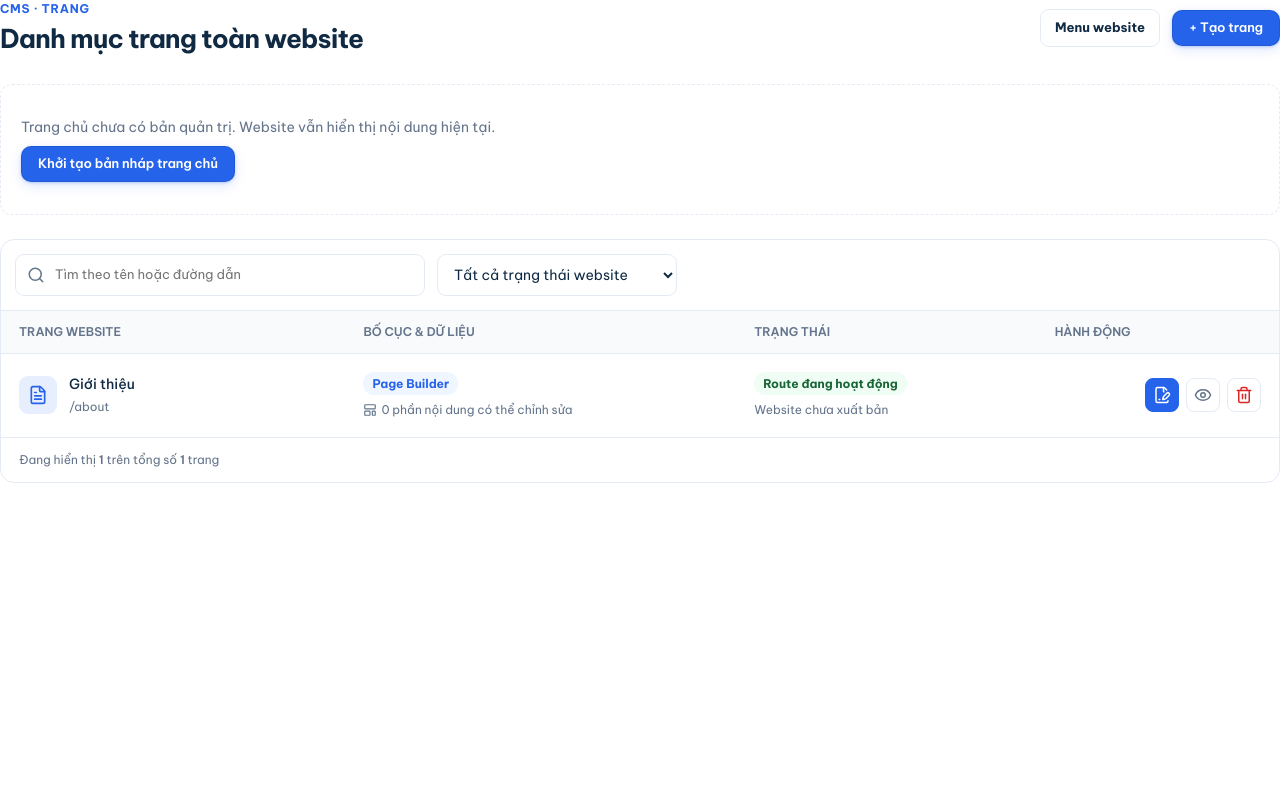
it: site pages admin draft › keeps the page and displays deletion errors in the confirmation dialog
Click the button named "Xóa trang Giới thiệu" at (1244, 395), box [1227,378,1261,412]
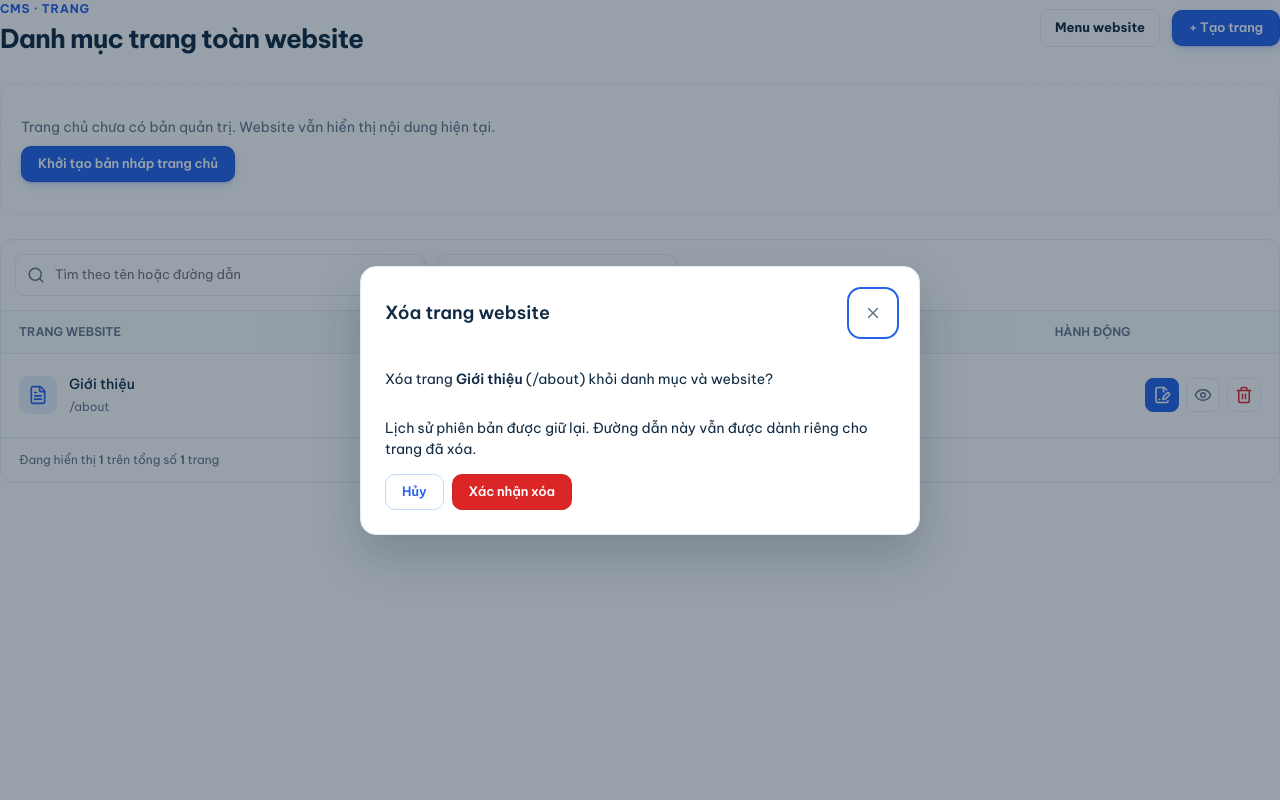
Click the button "Xác nhận xóa" at (512, 492), box [452,474,572,510]
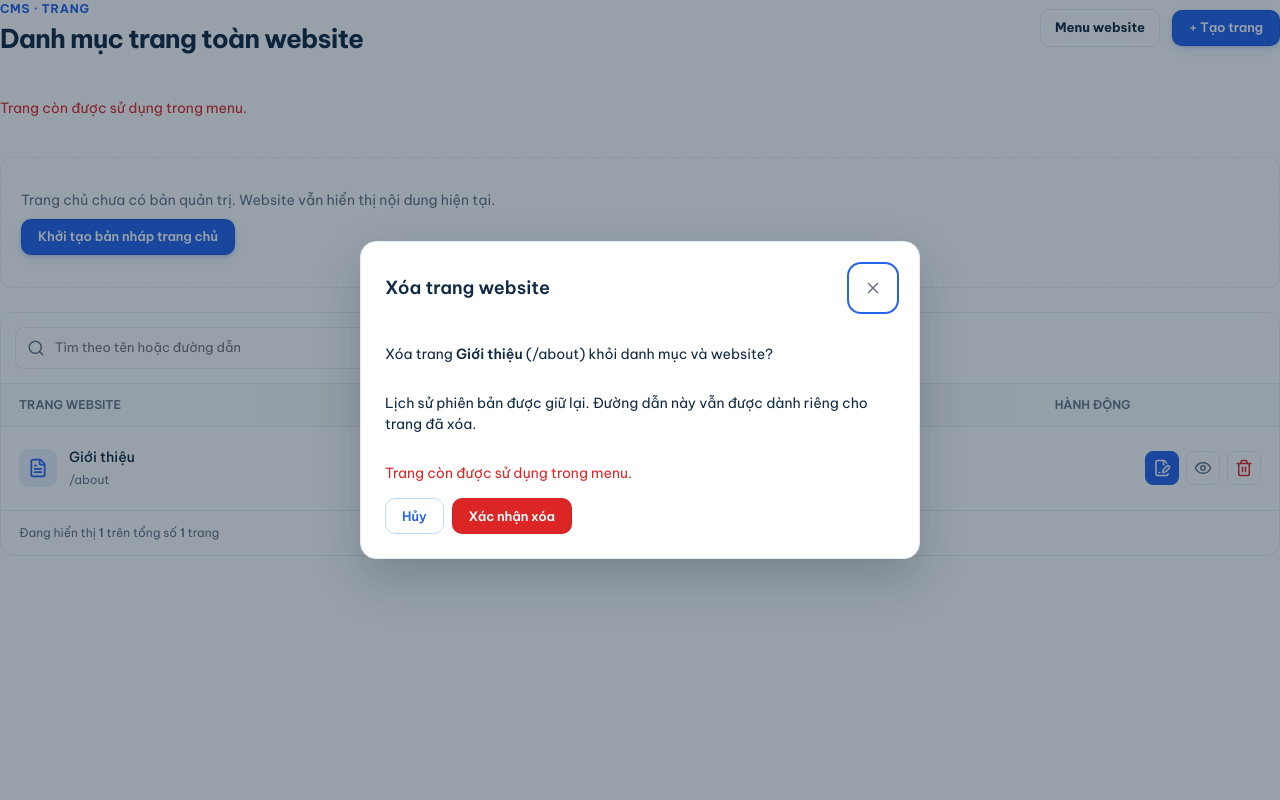
Check: the button named "Xóa trang Giới thiệu" is shown, box [1227,451,1261,485]
Check: the message "Trang còn được sử dụng trong menu." below ") khỏi danh mục và website?" is shown, box [385,464,632,482]
